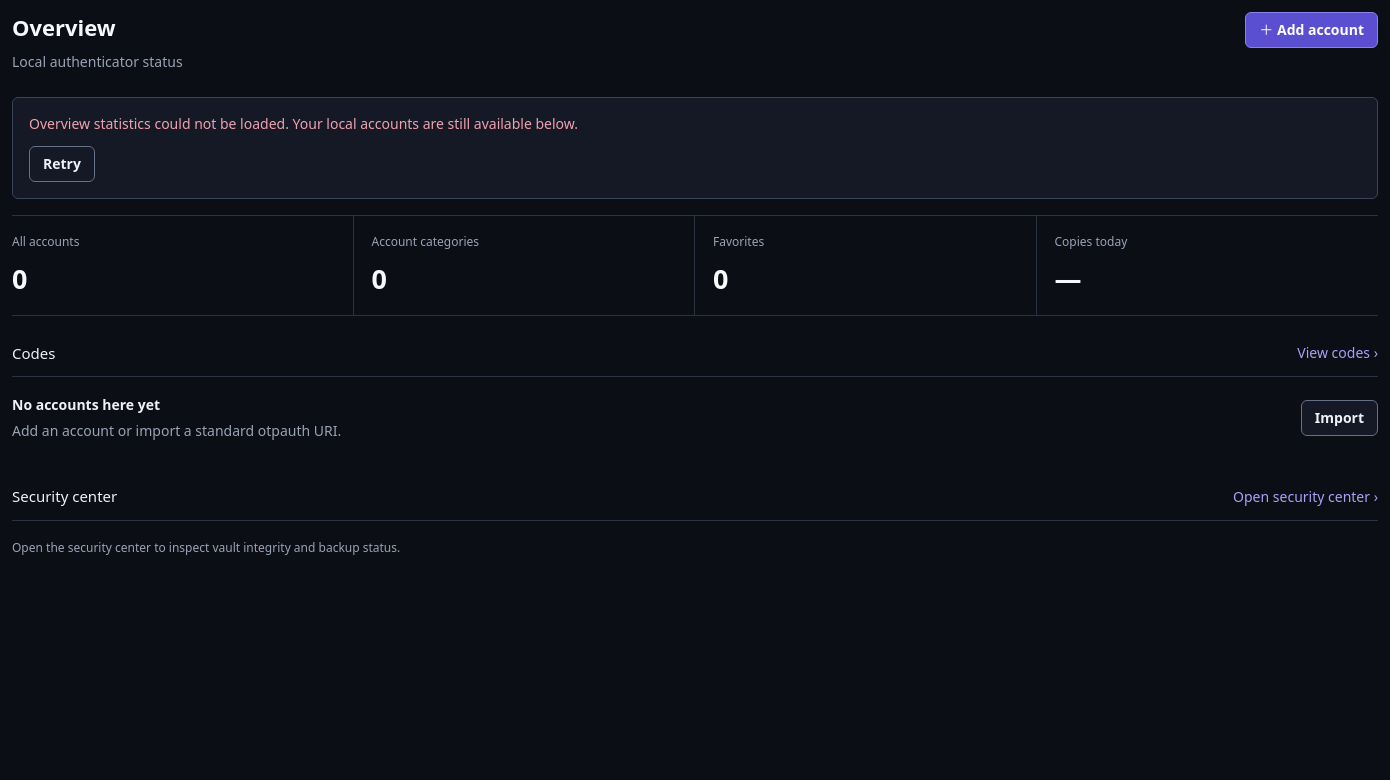
Scenario: dashboard statistics › shows unknown copy counts as unavailable instead of zero and recovers on retry
Expected: the text "Overview statistics could not be loaded. Your local accounts are still available below." is shown, [29, 114, 578, 133]
Expected: the text "—" is shown, [1054, 260, 1082, 297]
Step 1. Click the button "Retry" → (62, 164), box [29, 146, 95, 182]
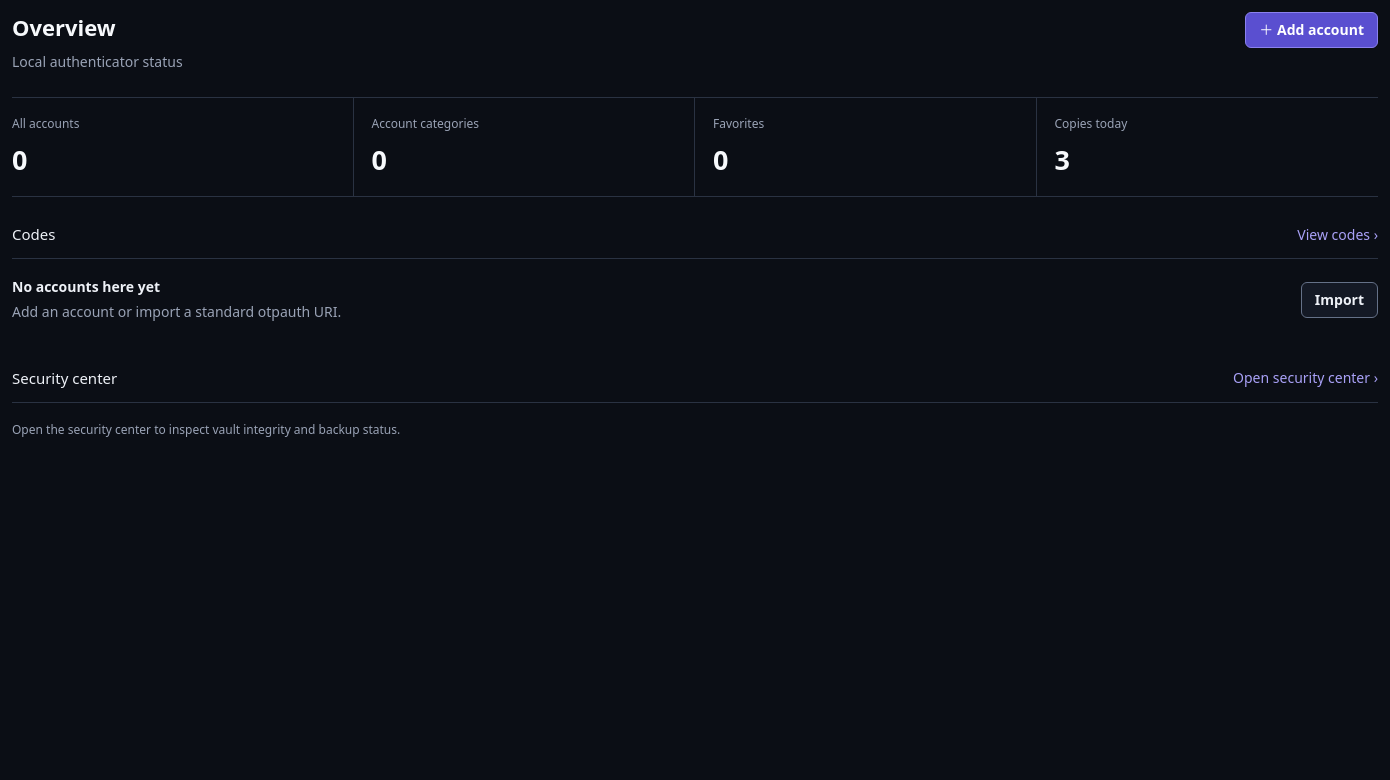
Expected: the text "3" is shown, [1054, 141, 1070, 178]
Expected: the text "—" is gone
